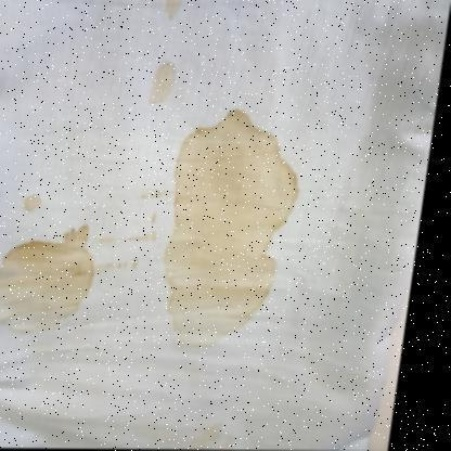coffee: (185, 134, 272, 306), (3, 248, 89, 324)
